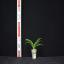leaf: (25, 39, 34, 48), (34, 38, 42, 47), (25, 42, 34, 49), (34, 41, 42, 47), (34, 44, 43, 48)
